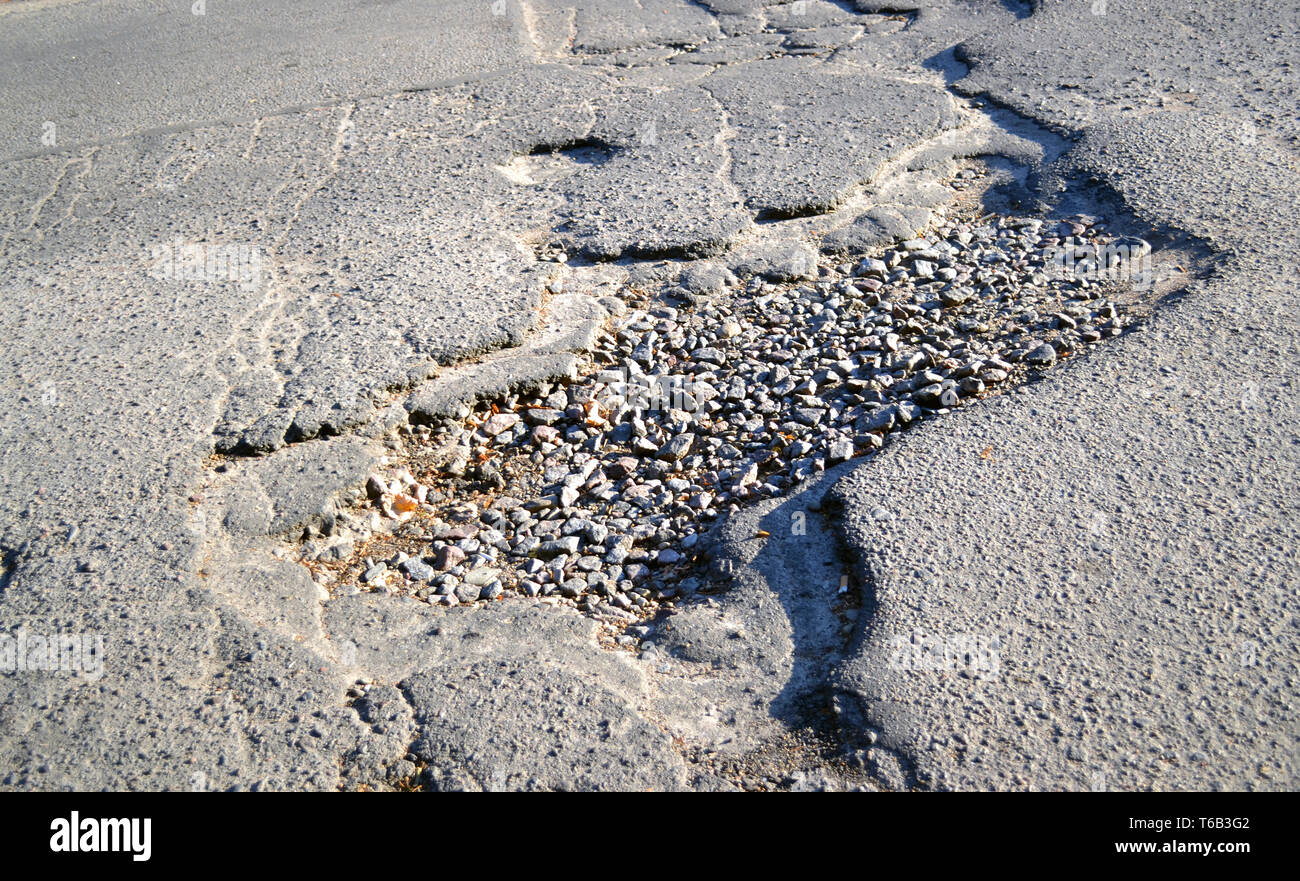Hole_in_the_road: (144, 111, 1243, 700)
